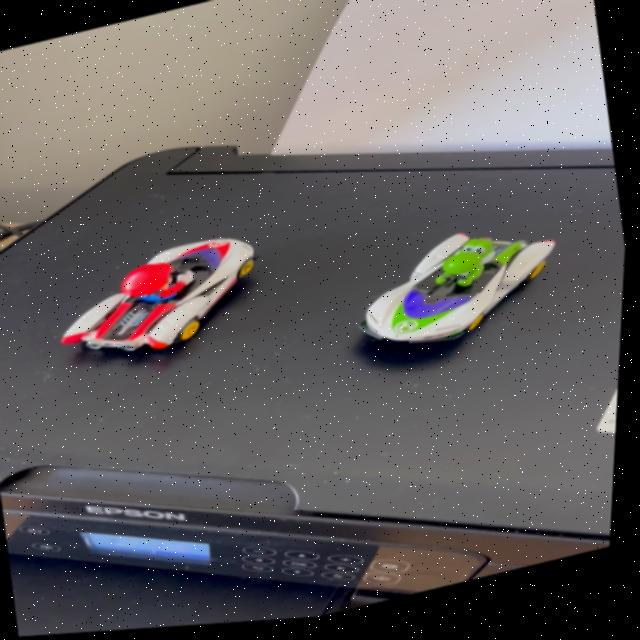mario: (35, 225, 288, 385)
yoshi: (334, 213, 581, 383)
